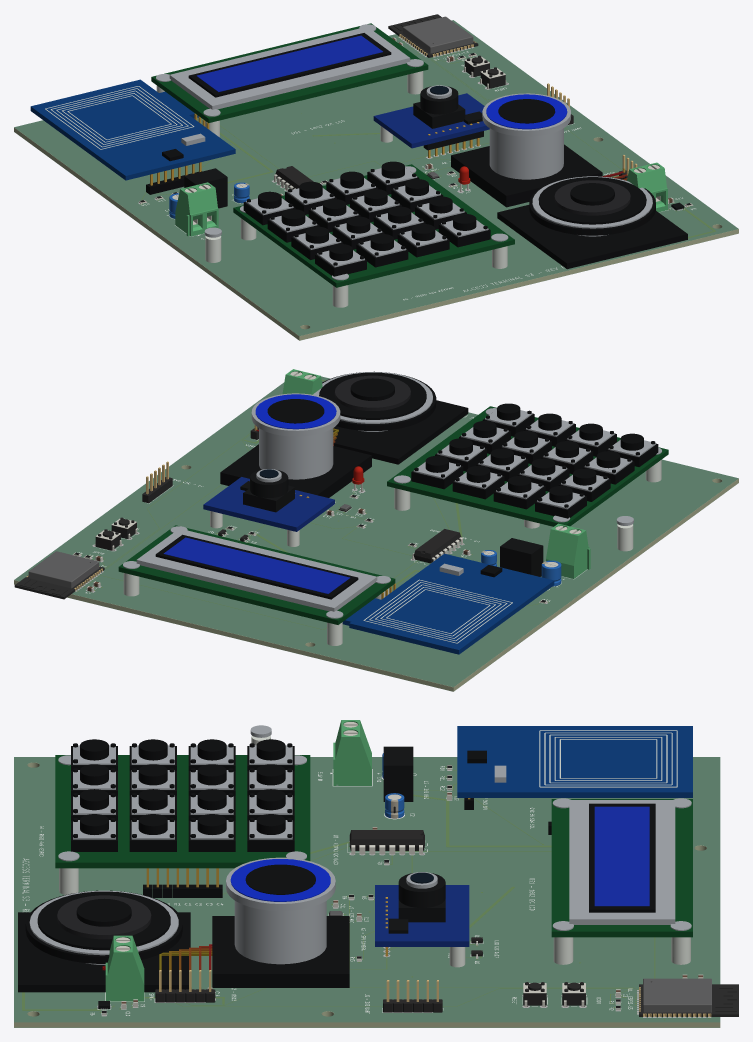
The model's file is terminal.glb.
3 views of the same model, one above another, from view 1: azimuth 30°, elevation 25°; view 2: azimuth 150°, elevation 25°; view 3: azimuth 270°, elevation 25° (orthographic). The views are drawn at different scales.
Visible parts, largest first — view 1: =>[0:1:1:323], =>[0:1:1:325], LCD1602_I2C_Mounted_B (Shell) (×4), Speaker40_Retained_Wired_B (Shell) (×6), RC522_Blue_Mounted_B (Shell), R503_Retained_Harness_C (Shell) (×5), Keypad4x4_Rigid_Mounted_B (Shell) (×5), ArducamMini2MPPlus (Shell) (×3), =>[0:1:1:127] (×2), =>[0:1:1:3], RECOM_R7833_1A (Shell), =>[0:1:1:11] (+1 smaller); view 2: =>[0:1:1:323], =>[0:1:1:325], LCD1602_I2C_Mounted_B (Shell) (×4), RC522_Blue_Mounted_B (Shell), Speaker40_Retained_Wired_B (Shell) (×6), R503_Retained_Harness_C (Shell) (×5), Keypad4x4_Rigid_Mounted_B (Shell) (×5), ArducamMini2MPPlus (Shell) (×3), =>[0:1:1:127] (×2), =>[0:1:1:3], RECOM_R7833_1A (Shell), =>[0:1:1:11] (+1 smaller); view 3: =>[0:1:1:323], =>[0:1:1:325], Keypad4x4_Rigid_Mounted_B (Shell) (×22), LCD1602_I2C_Mounted_B (Shell) (×6), RC522_Blue_Mounted_B (Shell), R503_Retained_Harness_C (Shell) (×5), Speaker40_Retained_Wired_B (Shell) (×6), ArducamMini2MPPlus (Shell) (×3), =>[0:1:1:127] (×2), =>[0:1:1:3], =>[0:1:1:79] (×2), =>[0:1:1:322] (+6 smaller).
Part boxes in pixels (left/top/right/bottom): =>[0:1:1:323]: left=14, top=20, right=738, bottom=335; =>[0:1:1:325]: left=14, top=21, right=738, bottom=340; LCD1602_I2C_Mounted_B (Shell) (×4): left=151, top=23, right=428, bottom=123; Speaker40_Retained_Wired_B (Shell) (×6): left=497, top=176, right=687, bottom=269; RC522_Blue_Mounted_B (Shell): left=30, top=79, right=235, bottom=180; R503_Retained_Harness_C (Shell) (×5): left=451, top=93, right=602, bottom=207; Keypad4x4_Rigid_Mounted_B (Shell) (×5): left=233, top=164, right=514, bottom=287; ArducamMini2MPPlus (Shell) (×3): left=373, top=86, right=489, bottom=148; =>[0:1:1:127] (×2): left=175, top=162, right=667, bottom=236; =>[0:1:1:3]: left=388, top=14, right=478, bottom=57; RECOM_R7833_1A (Shell): left=184, top=168, right=227, bottom=208; =>[0:1:1:11]: left=274, top=166, right=313, bottom=190; =>[0:1:1:323]: left=14, top=376, right=738, bottom=687; =>[0:1:1:325]: left=14, top=377, right=738, bottom=691; LCD1602_I2C_Mounted_B (Shell) (×4): left=118, top=525, right=395, bottom=624; RC522_Blue_Mounted_B (Shell): left=349, top=553, right=554, bottom=654; Speaker40_Retained_Wired_B (Shell) (×6): left=313, top=371, right=468, bottom=464; R503_Retained_Harness_C (Shell) (×5): left=220, top=393, right=371, bottom=497; Keypad4x4_Rigid_Mounted_B (Shell) (×5): left=387, top=406, right=668, bottom=526; ArducamMini2MPPlus (Shell) (×3): left=203, top=469, right=334, bottom=531; =>[0:1:1:127] (×2): left=282, top=369, right=590, bottom=578; =>[0:1:1:3]: left=14, top=551, right=104, bottom=599; RECOM_R7833_1A (Shell): left=500, top=538, right=543, bottom=576; =>[0:1:1:11]: left=412, top=529, right=462, bottom=563; =>[0:1:1:323]: left=14, top=757, right=720, bottom=1022; =>[0:1:1:325]: left=14, top=757, right=720, bottom=1027; Keypad4x4_Rigid_Mounted_B (Shell) (×22): left=55, top=739, right=310, bottom=894; LCD1602_I2C_Mounted_B (Shell) (×6): left=551, top=799, right=692, bottom=964; RC522_Blue_Mounted_B (Shell): left=457, top=726, right=692, bottom=797; R503_Retained_Harness_C (Shell) (×5): left=212, top=857, right=349, bottom=987; Speaker40_Retained_Wired_B (Shell) (×6): left=18, top=890, right=190, bottom=992; ArducamMini2MPPlus (Shell) (×3): left=375, top=873, right=469, bottom=946; =>[0:1:1:127] (×2): left=105, top=720, right=371, bottom=1001; =>[0:1:1:3]: left=639, top=978, right=738, bottom=1016; =>[0:1:1:79] (×2): left=155, top=970, right=442, bottom=1012; =>[0:1:1:322]: left=22, top=766, right=632, bottom=1015.
Bounding box in the file's own units: 0.16 × 0.0259 × 0.1848.
